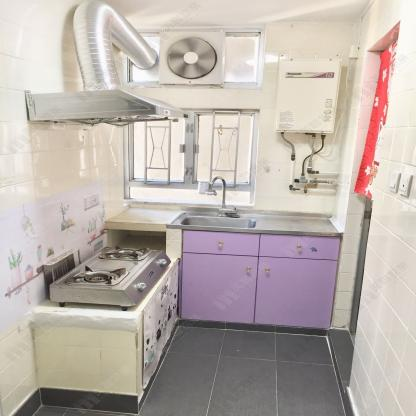Cupboard: (178, 231, 340, 330)
Exhaust Fan: (159, 30, 227, 85)
Exhaust Hood: (28, 89, 191, 126)
Faucet: (196, 175, 240, 214)
Sink: (168, 211, 336, 233)
Stove: (51, 247, 173, 310)
